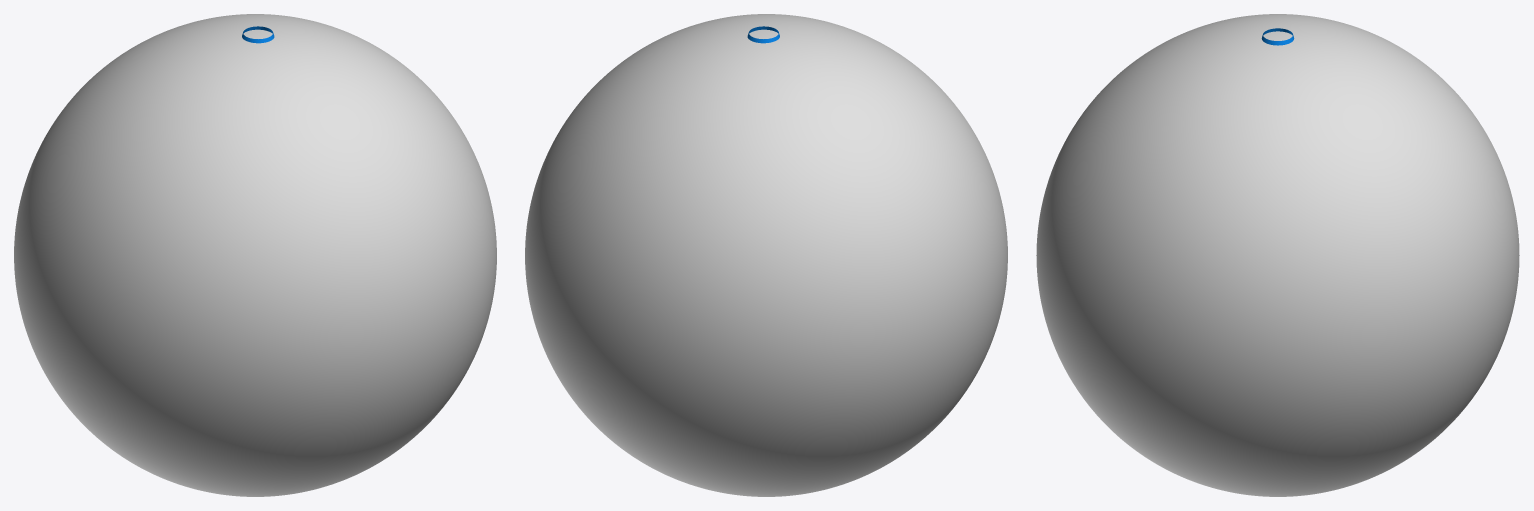
Rendered from Skybox and sea 2.fbx.
3 views of the same model, side by side, from view 1: azimuth 30°, elevation 25°; view 2: azimuth 150°, elevation 25°; view 3: azimuth 270°, elevation 25° (orthographic).
Parts seen in each view (by area): view 1: Sphere; view 2: Sphere; view 3: Sphere.
Boxes of the visible parts, x1,y1,x2,y2 form: Sphere: [14, 14, 496, 496]; Sphere: [525, 14, 1007, 496]; Sphere: [1036, 14, 1519, 496].
Bounding box in the file's own units: 119066 × 119926 × 119066.
1 material, 1 textured.
